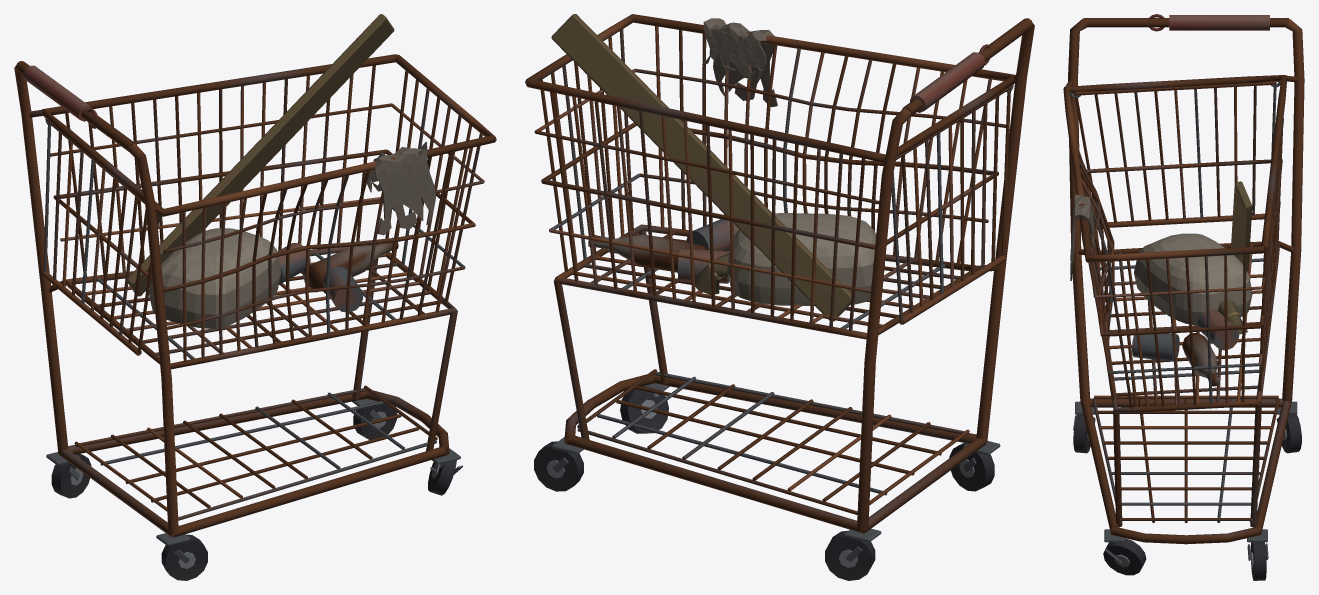
File: rusted_shopping_cart.glb
3 renders of one model, left to right at view 1: azimuth 30°, elevation 25°; view 2: azimuth 150°, elevation 25°; view 3: azimuth 270°, elevation 25°, orthographic. The views are drawn at different scales.
Parts seen in each view (by area): view 1: rusted_shopping_cart; view 2: rusted_shopping_cart; view 3: rusted_shopping_cart.
Boxes of the visible parts, bbox=[...] form: rusted_shopping_cart: bbox=[14, 14, 496, 580]; rusted_shopping_cart: bbox=[525, 14, 1034, 580]; rusted_shopping_cart: bbox=[1063, 14, 1304, 580].
Size of the model in its own units: 0.9408 by 1.09 by 0.5745.
